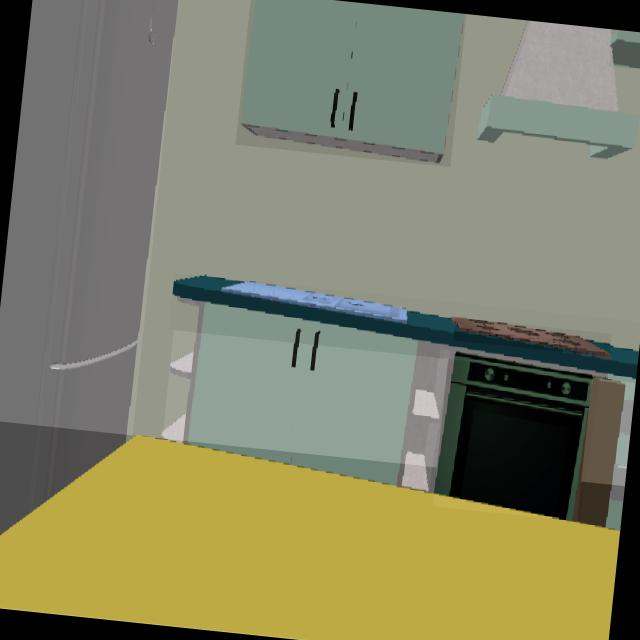cabinet: (163, 303, 459, 494), (238, 0, 465, 166), (610, 30, 640, 68)
chair: (567, 378, 633, 527)
countertop: (172, 275, 638, 378)
oven: (433, 356, 591, 519)
stove: (454, 318, 606, 355)
table: (0, 437, 620, 640)
